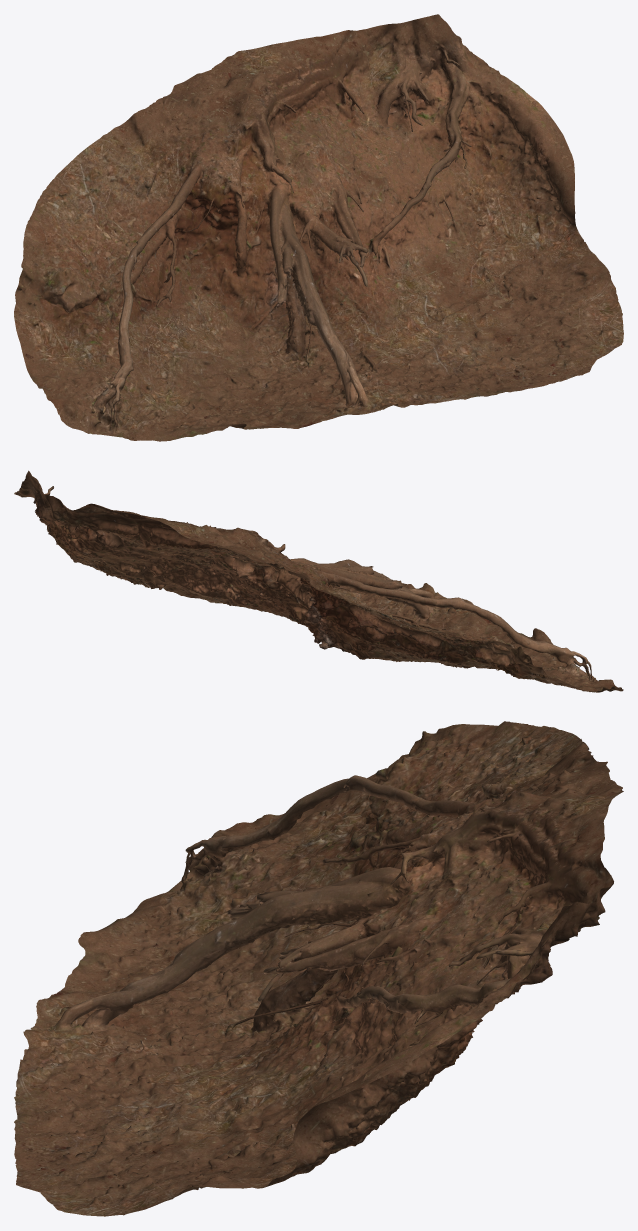
The model's file is root_cluster_01.gltf.
The picture shows the model from 3 angles, top to bottom: view 1: azimuth 30°, elevation 25°; view 2: azimuth 150°, elevation 25°; view 3: azimuth 270°, elevation 25°; orthographic projection. The views are drawn at different scales.
Visible parts, largest first — view 1: root_cluster_01; view 2: root_cluster_01; view 3: root_cluster_01.
Boxes of the visible parts, x1,y1,x2,y2 form: root_cluster_01: (14,14,623,441); root_cluster_01: (14,470,623,692); root_cluster_01: (14,721,623,1216).
Bounding box in the file's own units: 4.12 × 1.51 × 2.68.
Materials: 1 (1 with a texture image).
